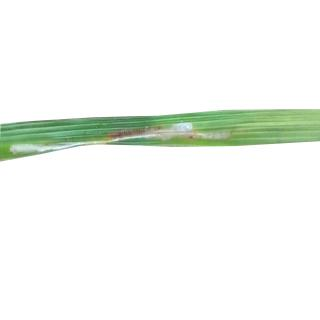Hawar-Daun: (110, 131, 234, 142), (168, 122, 194, 144), (11, 141, 60, 152)
